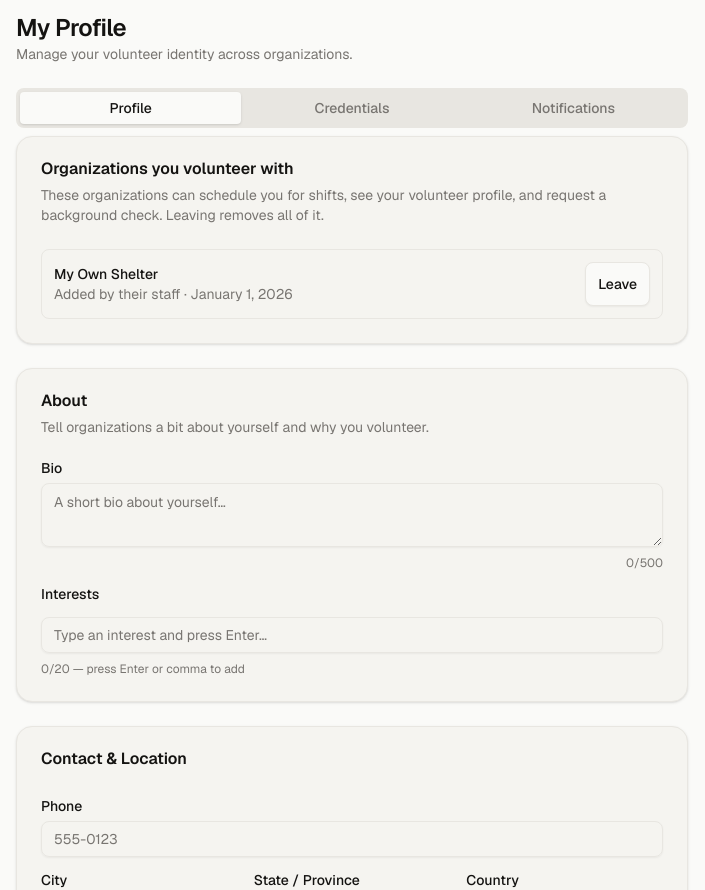
OrgMemberships — confirm then leave › does NOT promise revocation to staff at their own org
The width and height of the screenshot is (705, 890).
Click the button "Leave" at (618, 284), box [585,262,650,306]
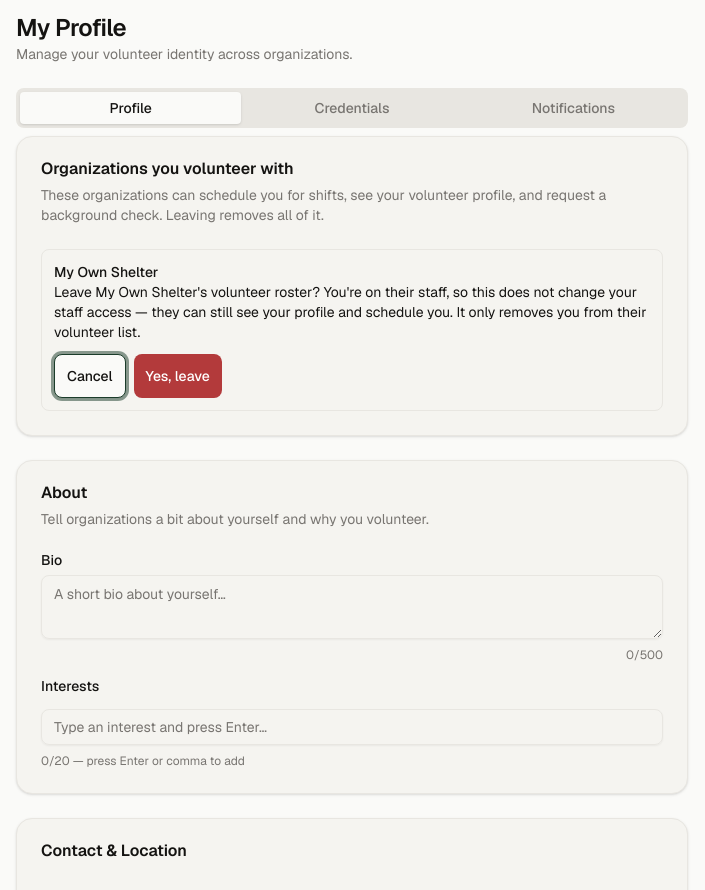
Check: the text "You're on their staff, so this does not change your staff access" is shown, box [54,283,647,341]
